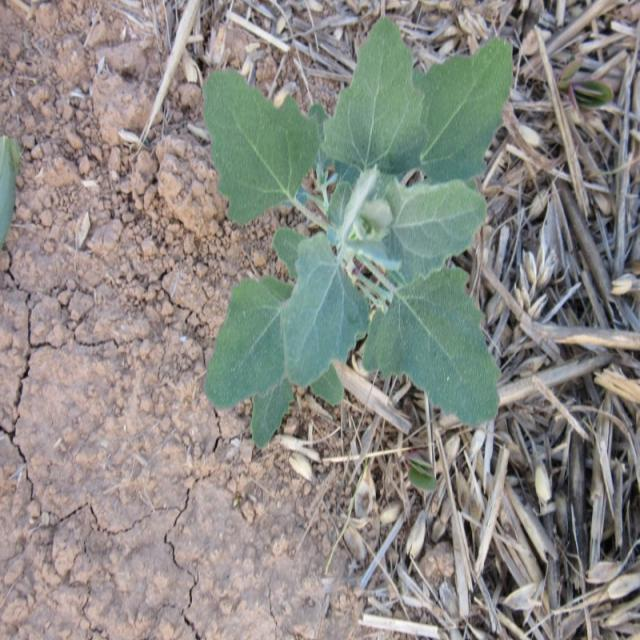ca: (195, 22, 514, 444)
